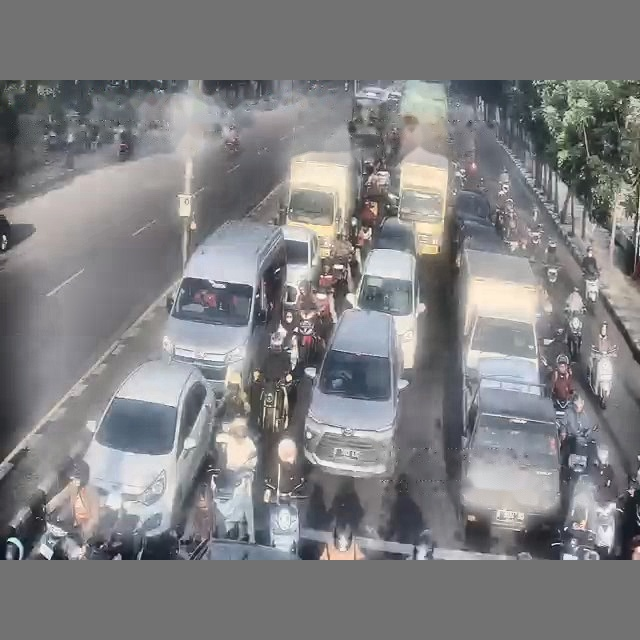Mobil: (84, 360, 215, 538), (304, 309, 408, 477), (461, 386, 561, 531), (347, 249, 425, 370), (281, 225, 320, 302), (453, 220, 509, 267), (372, 217, 415, 256), (455, 190, 491, 222), (0, 214, 10, 251)
Motor: (263, 437, 303, 553), (254, 371, 292, 432), (587, 346, 616, 408), (37, 521, 83, 559), (566, 312, 582, 361), (584, 273, 599, 310)
Truk: (280, 152, 356, 257), (398, 147, 449, 255)
